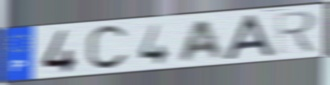4: (41, 28, 79, 75), (137, 21, 173, 66)
A: (222, 13, 278, 62), (177, 18, 226, 64)
C: (84, 23, 130, 72)
R: (274, 9, 320, 56)
